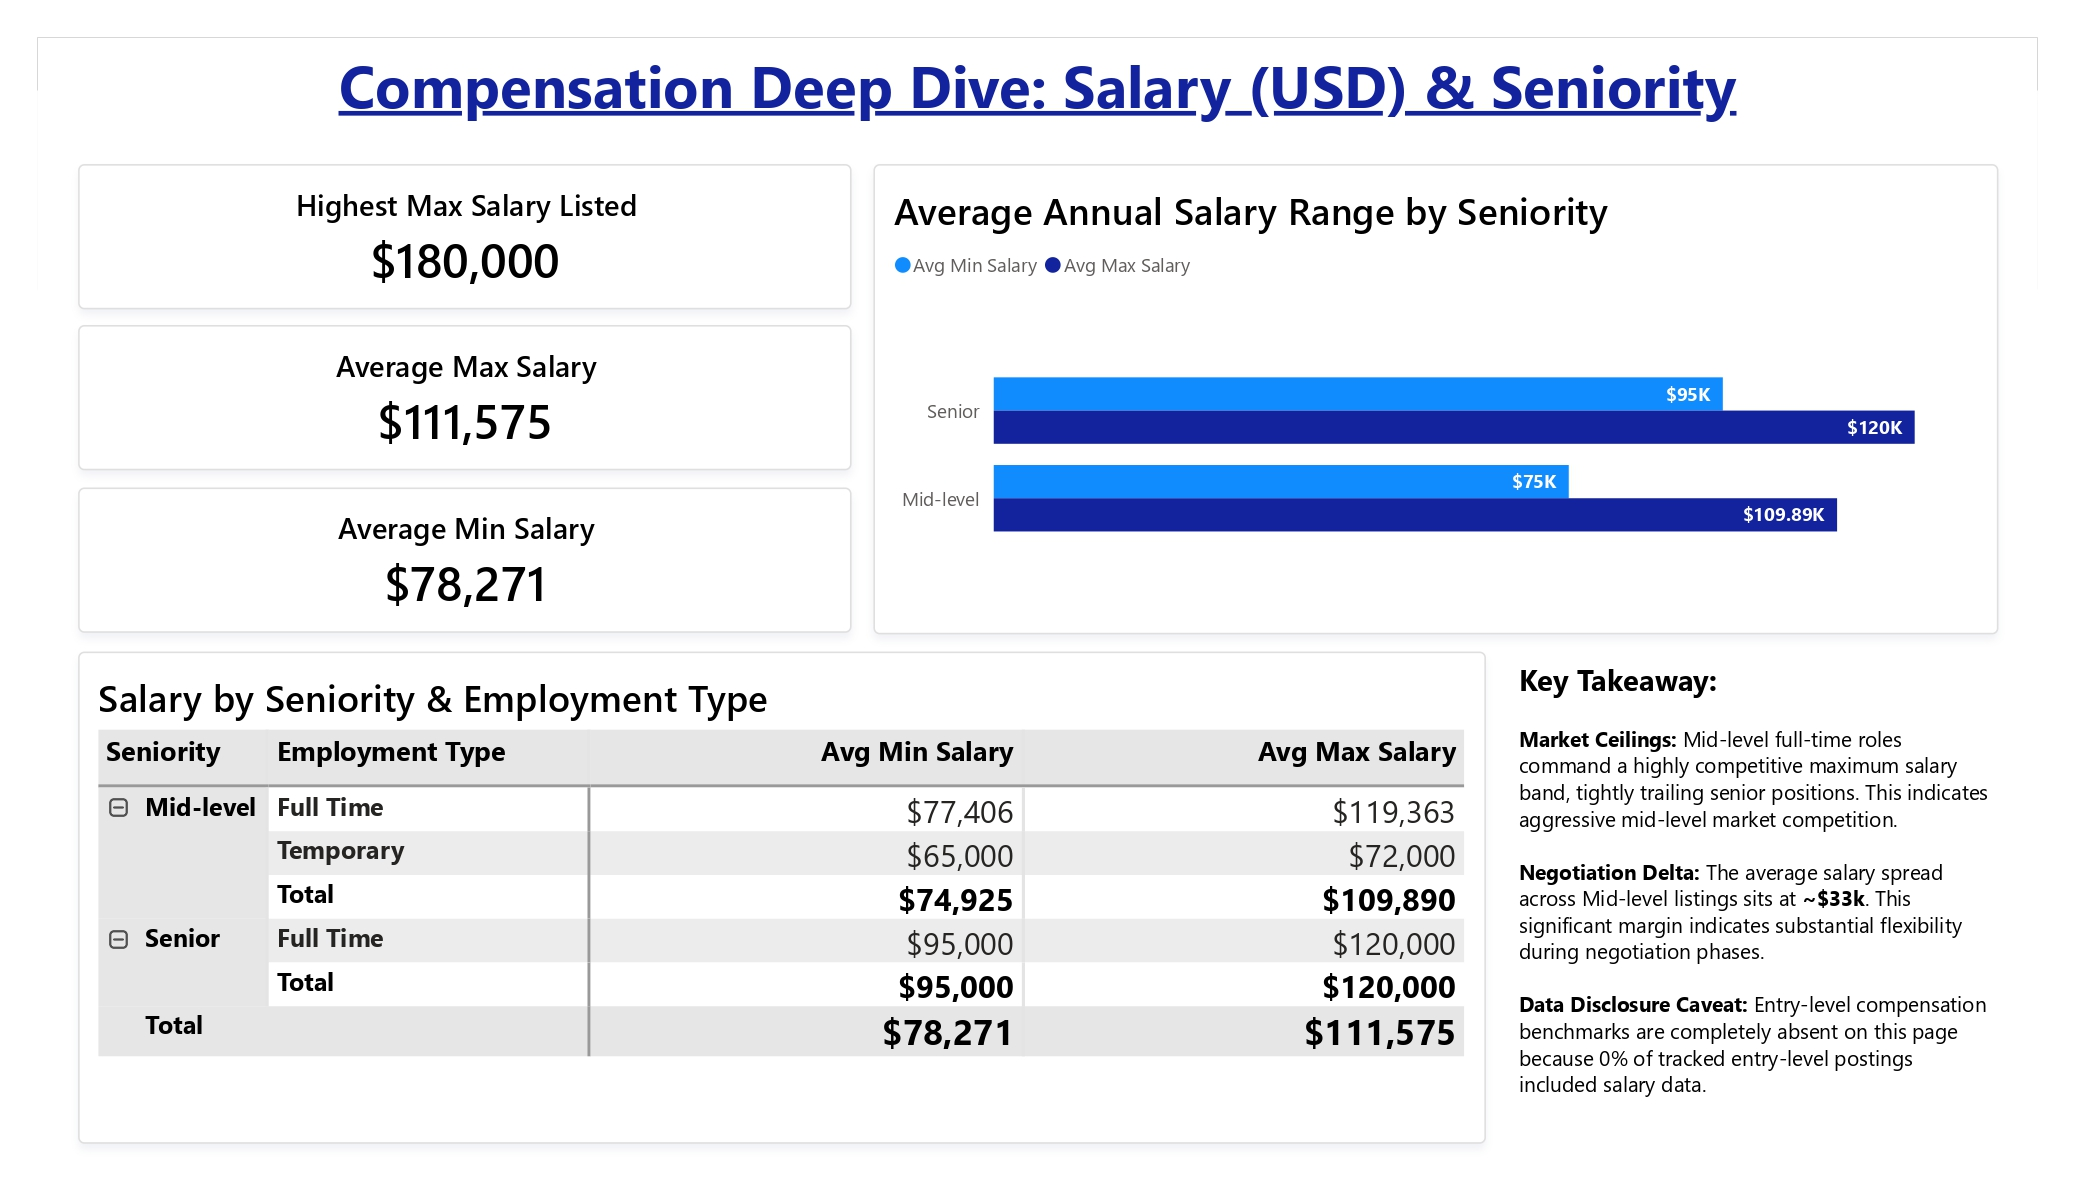

Layout of this report page (visuals, bound fields, positions):
{"tool":"powerbi","page":{"name":"Salary & Seniority","canvas":[1280,720],"ordinal":1},"visuals":[{"type":"clusteredBarChart","title":"Average Annual Salary Range by Seniority","fields":{"Category":["JobPostings.seniority"],"Y":["_Measures.Avg Min Salary","_Measures.Avg Max Salary"]},"box":[535.2,80.6,720.3,301],"z":0},{"type":"card","title":"Highest Max Salary Listed","fields":{"Values":["_Measures.Highest Max Salary (USD)"]},"box":[26.4,80.6,495.1,93.3],"z":1000},{"type":"pivotTable","title":"Salary by Seniority & Employment Type","fields":{"Rows":["JobPostings.seniority","JobPostings.employment_type"],"Values":["_Measures.Avg Min Salary","_Measures.Avg Max Salary"]},"box":[26.1,393.1,900.6,314.7],"z":2000},{"type":"textbox","box":[148.6,0,982.7,65.9],"z":3000},{"type":"card","title":"Average Min Salary ","fields":{"Values":["_Measures.Avg Min Salary"]},"box":[25.9,288.1,495.4,93.3],"z":4000},{"type":"card","title":"Average Max Salary ","fields":{"Values":["_Measures.Avg Max Salary"]},"box":[26.4,183.9,495.1,93.3],"z":5000},{"type":"textbox","box":[942.9,393.1,312.2,314.7],"z":6000}]}

Visuals, with their boxes on the page's 1280x720 design canvas (x1, y1, x2, y2). These are canvas units, not pixel positions in the 2075x1200 screenshot, which may show the page scaled, cropped or inside an application window:
"Average Annual Salary Range by Seniority" clusteredBarChart: bbox=[535, 81, 1256, 382]
"Highest Max Salary Listed" card: bbox=[26, 81, 522, 174]
"Salary by Seniority & Employment Type" pivotTable: bbox=[26, 393, 927, 708]
textbox: bbox=[149, 0, 1131, 66]
"Average Min Salary " card: bbox=[26, 288, 521, 381]
"Average Max Salary " card: bbox=[26, 184, 522, 277]
textbox: bbox=[943, 393, 1255, 708]
